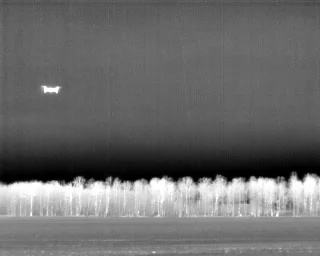DRONE: (37, 81, 64, 99)
